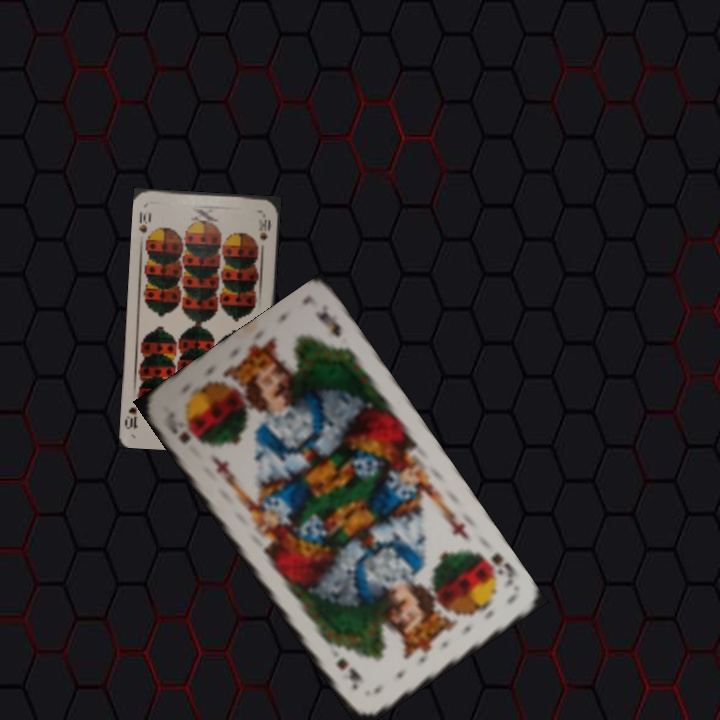S10: (135, 208, 154, 236)
SK: (473, 548, 519, 590), (163, 407, 193, 446)
